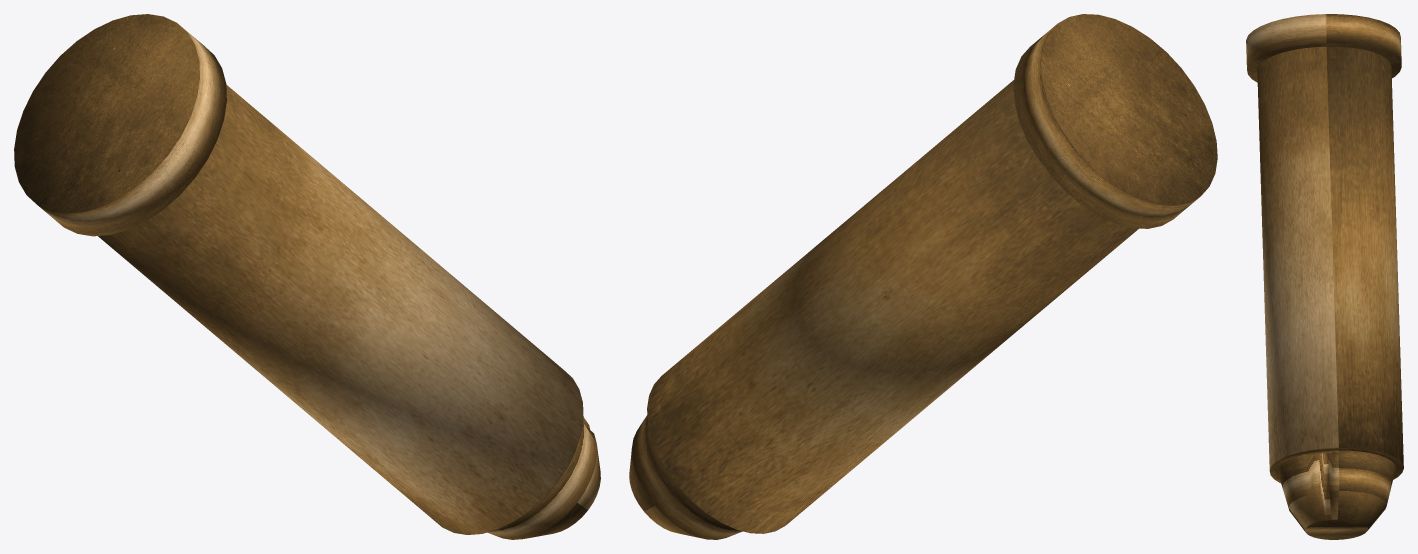
File: newBullet.fbx
3 views of the same model, side by side, from view 1: azimuth 30°, elevation 25°; view 2: azimuth 150°, elevation 25°; view 3: azimuth 270°, elevation 25° (orthographic). The views are drawn at different scales.
Visible parts, largest first — view 1: Cylinder.002; view 2: Cylinder.002; view 3: Cylinder.002.
Boxes of the visible parts, left/top/right/bottom form: Cylinder.002: left=14, top=14, right=600, bottom=539; Cylinder.002: left=629, top=14, right=1217, bottom=539; Cylinder.002: left=1246, top=14, right=1403, bottom=539.
Bounding box in the file's own units: 136 × 138 × 48.71.
1 material, 1 textured.
